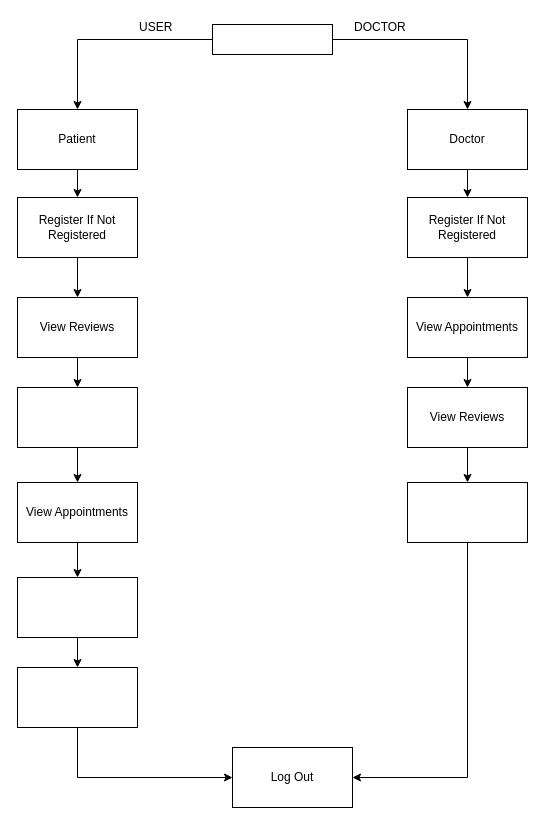
Some shapes in this 545 by 825 pixel diagram are drawn without their labels. Here are the shapes that lost their labels. From the top down, the box of each, then its label:
(212, 24, 332, 54): Log In Module
(16, 386, 138, 448): Book Appointment
(406, 482, 528, 542): Delete Appointments
(16, 576, 138, 638): Write Reviews
(16, 666, 138, 728): Delete Appointment
